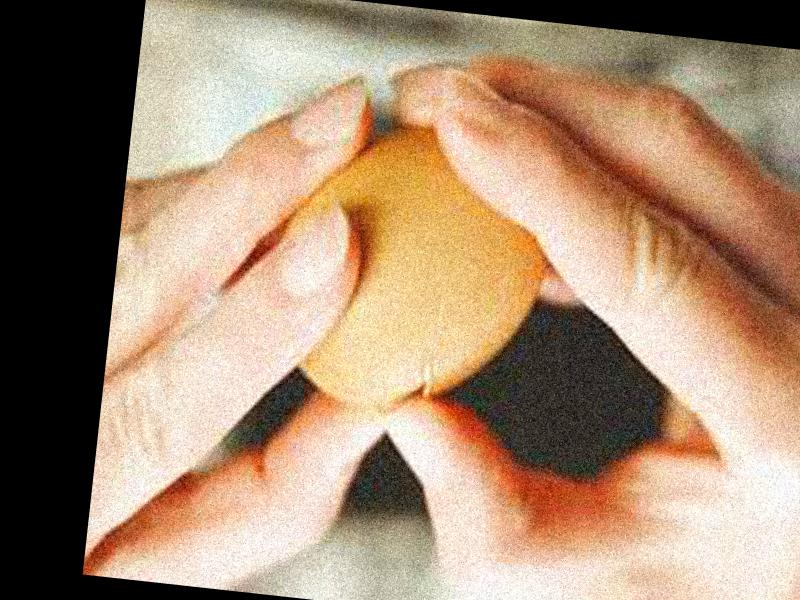Eggs: (262, 108, 558, 428)
